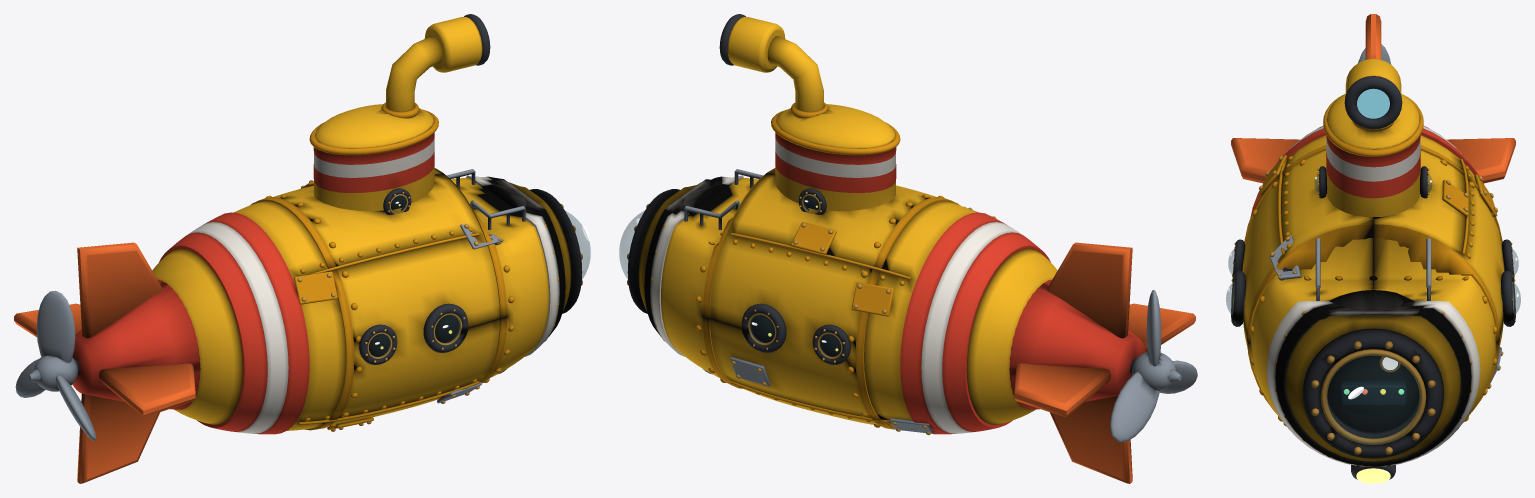
Rendered from player_hull_big.glb.
3 views of the same model, side by side, from view 1: azimuth 30°, elevation 25°; view 2: azimuth 150°, elevation 25°; view 3: azimuth 270°, elevation 25° (orthographic). The views are drawn at different scales.
Visible parts, largest first — view 1: hull_body.001, propeller.001; view 2: hull_body.001, propeller.001; view 3: hull_body.001.
Boxes of the visible parts, x1,y1,x2,y2 form: hull_body.001: (14,14,590,483); propeller.001: (15,290,96,440); hull_body.001: (619,14,1195,483); propeller.001: (1110,290,1197,442); hull_body.001: (1226,14,1520,483).
Bounding box in the file's own units: 5.35 × 3.41 × 2.24.
